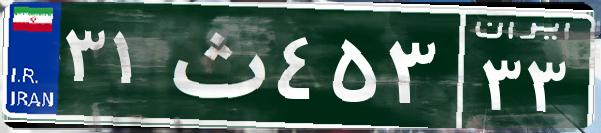1: (110, 28, 158, 105)
3: (385, 28, 445, 110), (57, 26, 110, 107), (475, 38, 525, 113), (525, 38, 570, 115)
4: (273, 28, 330, 110)
5: (330, 28, 385, 110)
ث: (158, 15, 273, 115)
